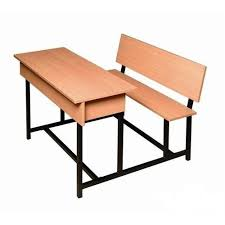Bench: (19, 45, 194, 167)
